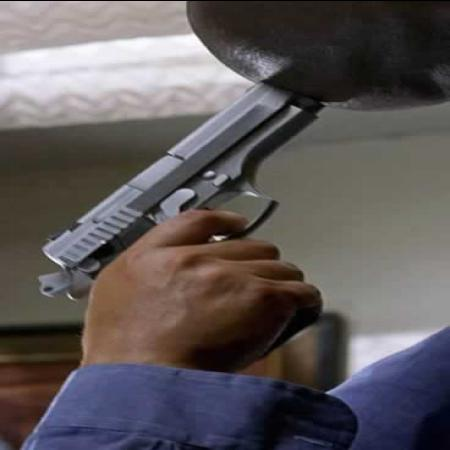Pistol: (33, 82, 355, 362)
